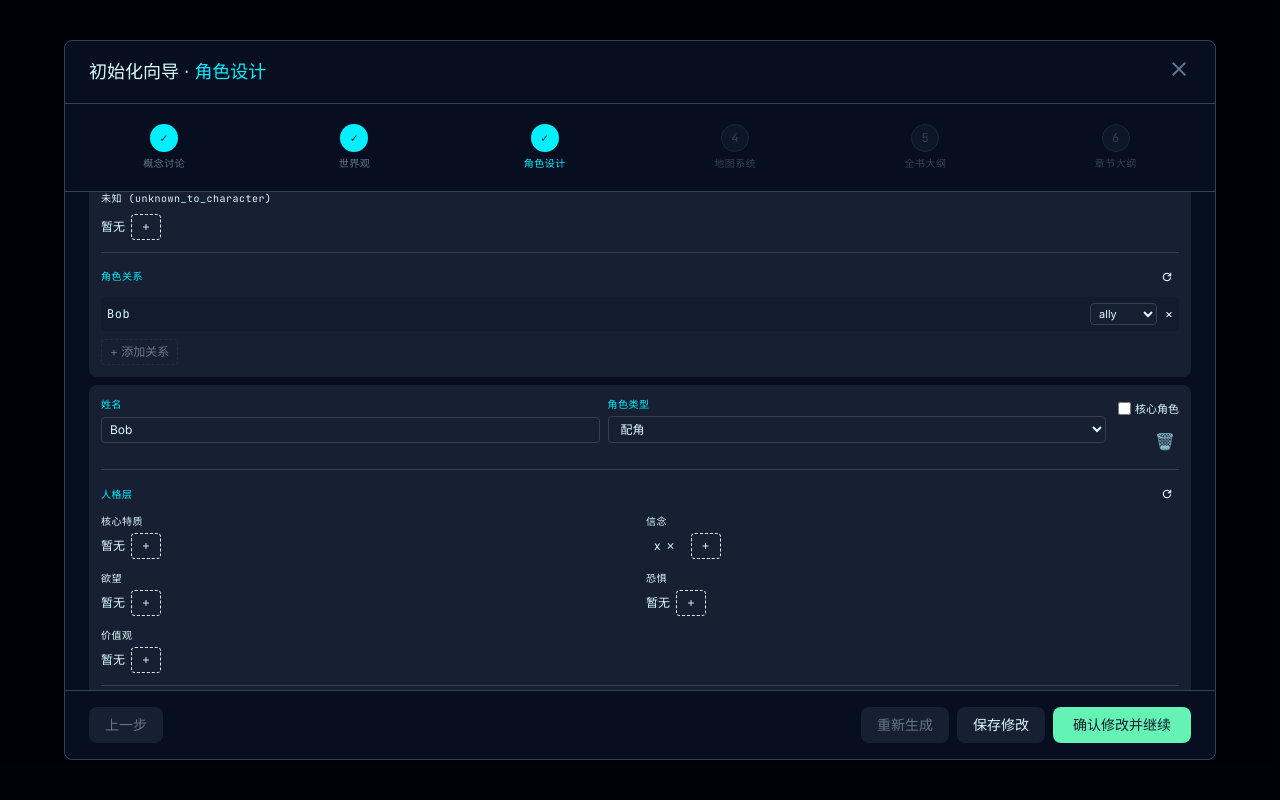
Test: CharacterStep edit + delete › clicking delete opens a confirmation modal showing cascade count
The image size is (1280, 800).
(page scrolled)
Step 1. Click the button with test id "character-delete-char_bob" → [1165, 441], box [1151,425,1179,457]
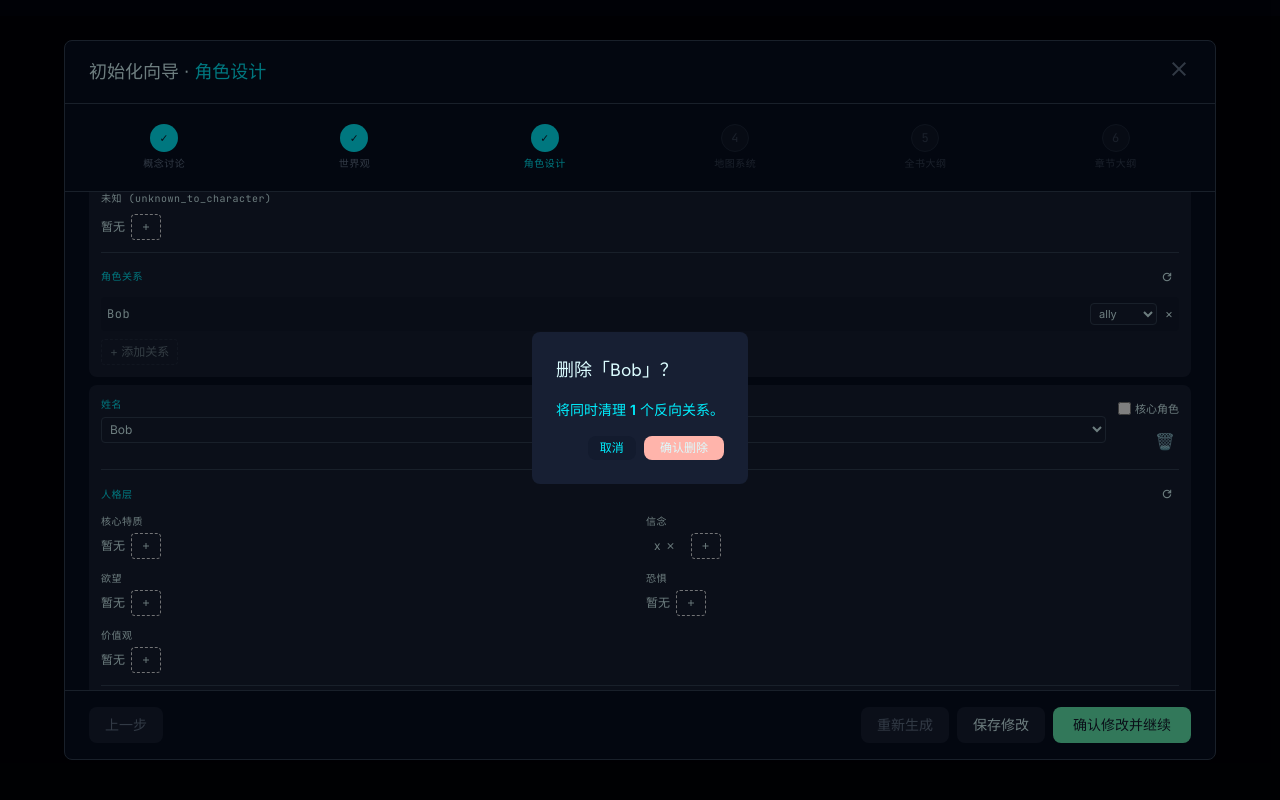
Expected: the element with test id "delete-confirm-modal" reads "删除「Bob」？ 将同时清理 1 个反向关系。 取消 确认删除"
Expected: the button with test id "delete-confirm-button" is shown, [644,436,724,460]
